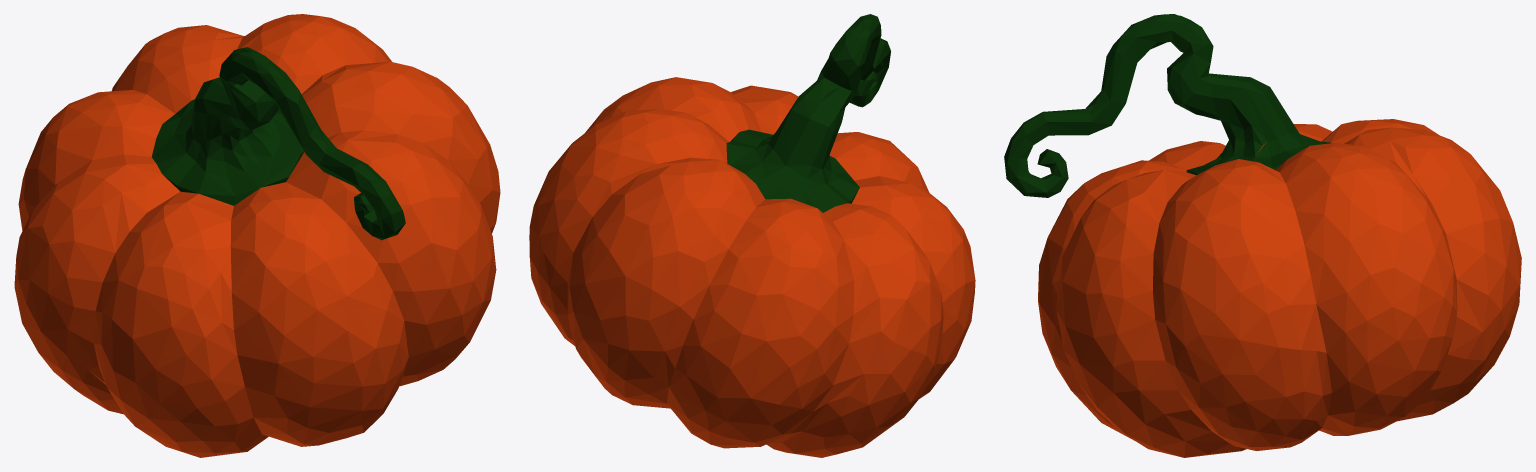
The model's file is Pumpkin_lowpoly.obj.
The picture shows the model from 3 angles, left to right: view 1: azimuth 30°, elevation 25°; view 2: azimuth 150°, elevation 25°; view 3: azimuth 270°, elevation 25°; orthographic projection. The views are drawn at different scales.
Visible parts, largest first — view 1: Mesh1.0; view 2: Mesh1.0; view 3: Mesh1.0.
Part boxes in pixels (box(x1,y1,x2,y2)): Mesh1.0: box(14, 14, 500, 457); Mesh1.0: box(529, 14, 975, 457); Mesh1.0: box(1004, 14, 1521, 457).
Size of the model in its own units: 1.08 by 1.03 by 1.17.
